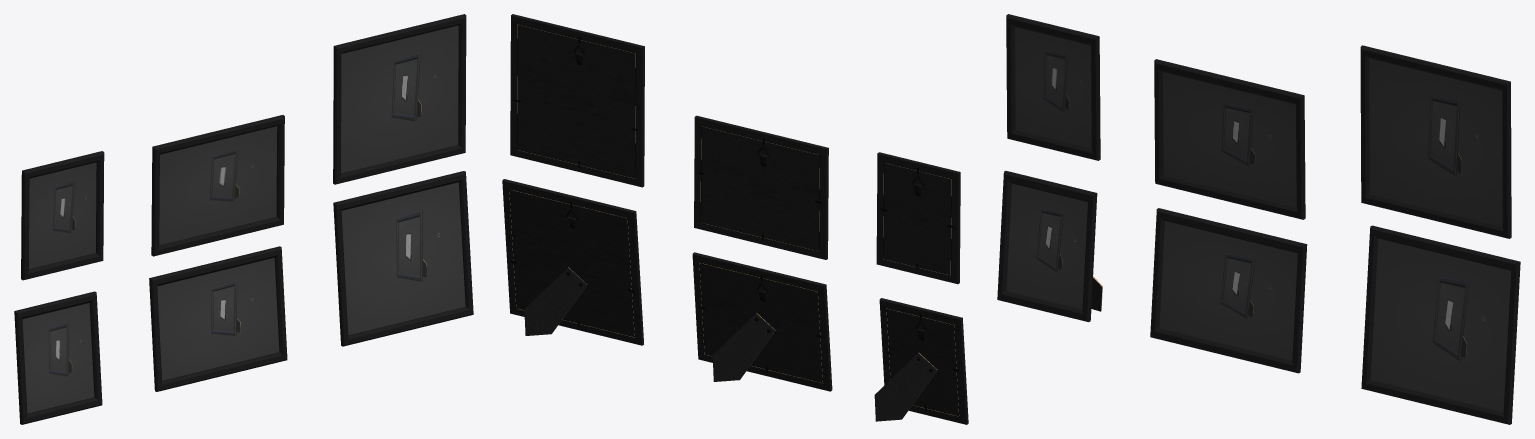
File: Picture Frames.fbx
3 views of the same model, side by side, from view 1: azimuth 30°, elevation 25°; view 2: azimuth 150°, elevation 25°; view 3: azimuth 330°, elevation 25° (orthographic). The views are drawn at different scales.
Parts seen in each view (by area): view 1: Square Standing, Square Wall, Medium Standing, Medium Wall, Small Standing, Small Wall; view 2: Square Wall, Square Standing, Medium Wall, Medium Standing, Small Standing, Small Wall; view 3: Square Standing, Square Wall, Medium Standing, Medium Wall, Small Standing, Small Wall.
Part boxes in pixels (left/top/right/bottom): Square Standing: left=333, top=171, right=473, bottom=346; Square Wall: left=333, top=14, right=466, bottom=184; Medium Standing: left=149, top=246, right=287, bottom=391; Medium Wall: left=151, top=115, right=284, bottom=256; Small Standing: left=14, top=291, right=102, bottom=424; Small Wall: left=21, top=151, right=104, bottom=280; Square Wall: left=510, top=14, right=644, bottom=187; Square Standing: left=502, top=179, right=643, bottom=345; Medium Wall: left=694, top=115, right=828, bottom=259; Medium Standing: left=692, top=252, right=832, bottom=391; Small Standing: left=874, top=298, right=968, bottom=424; Small Wall: left=876, top=152, right=960, bottom=284; Square Standing: left=1361, top=225, right=1520, bottom=424; Square Wall: left=1360, top=45, right=1511, bottom=238; Medium Standing: left=1150, top=208, right=1307, bottom=373; Medium Wall: left=1154, top=59, right=1305, bottom=219; Small Standing: left=997, top=171, right=1102, bottom=322; Small Wall: left=1006, top=14, right=1100, bottom=160.
Size of the model in its own units: 919 by 587 by 62.95.
